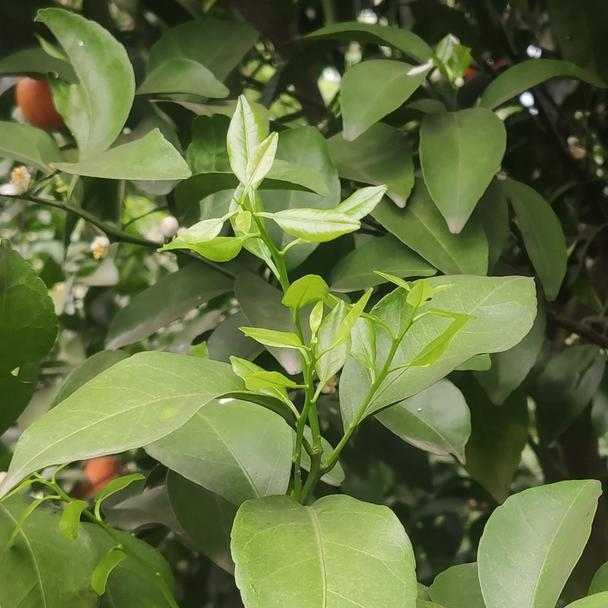shoot: (173, 115, 389, 282), (337, 277, 474, 429), (237, 311, 374, 454)
